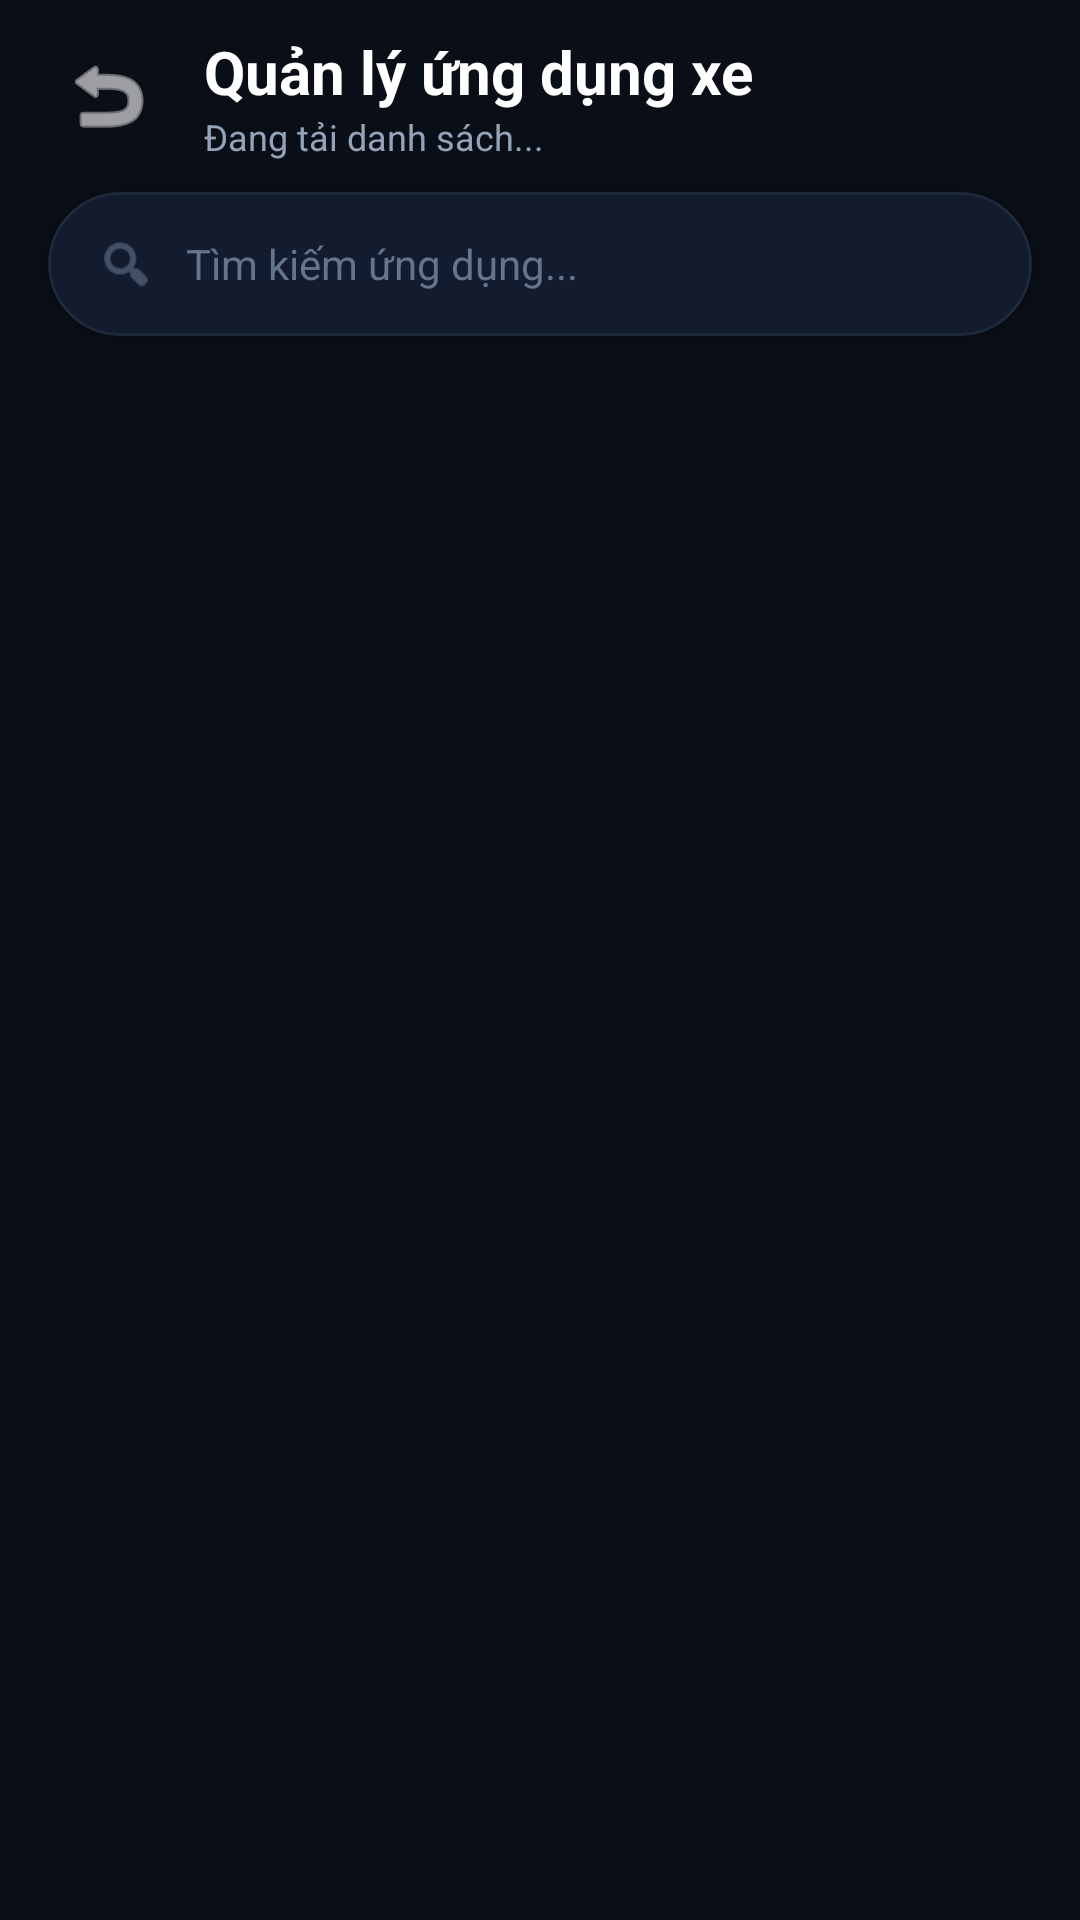

Where icons sit on this 1080x1920 app screen, as bbox=(x1, y1, x2, y2):
Back: bbox=(75, 65, 144, 128)
search: bbox=(104, 242, 148, 286)
